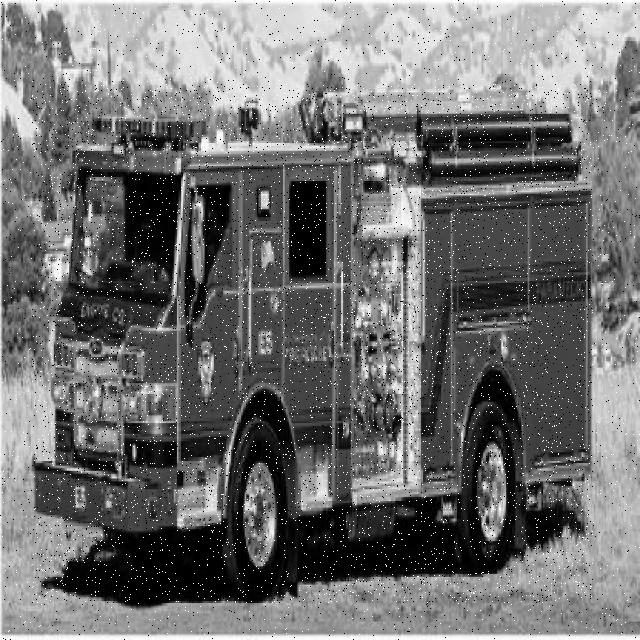Fire Truck: (32, 84, 593, 603)
